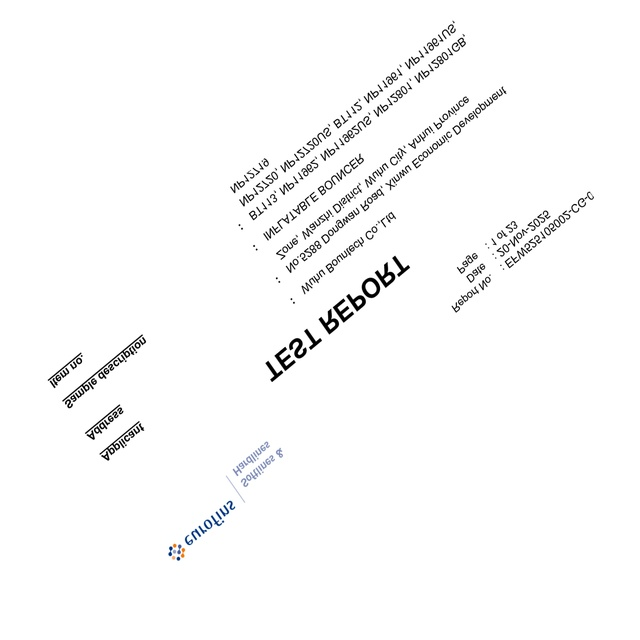eurofins: (162, 496, 245, 566)
